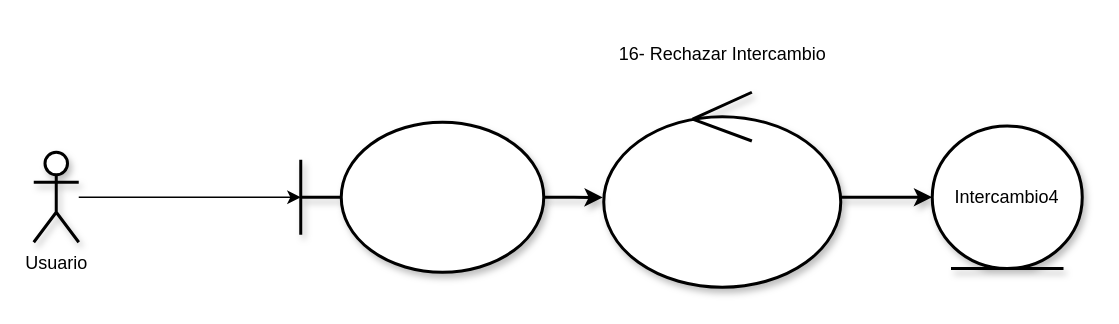
The diagram is 1119 pixels wide and 324 high, and some of its shapes have lost their labels. Each missing label, with the centre of its shape:
"RechazarIntercambioAction" goes at (723,191).
"RechazarIntercambioUi" goes at (423,199).
